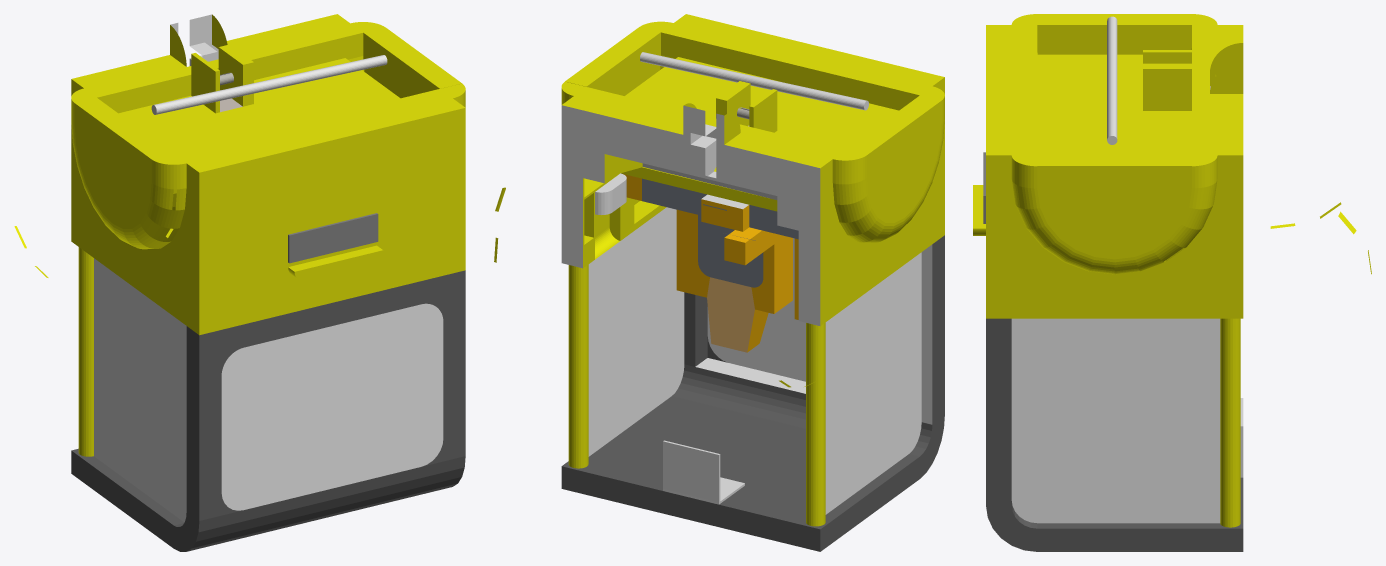
The model's file is island23.glb.
3 views of the same model, side by side, from view 1: azimuth 30°, elevation 25°; view 2: azimuth 150°, elevation 25°; view 3: azimuth 270°, elevation 25° (orthographic). The views are drawn at different scales.
Visible parts, largest first — view 1: imagetostl_mesh880, imagetostl_mesh879, imagetostl_mesh480, imagetostl_mesh265, imagetostl_mesh695, imagetostl_mesh3, imagetostl_mesh883, imagetostl_mesh267, imagetostl_mesh317, imagetostl_mesh283, imagetostl_mesh280, imagetostl_mesh881 (+23 smaller); view 2: imagetostl_mesh480, imagetostl_mesh334, imagetostl_mesh1003, imagetostl_mesh1000, imagetostl_mesh265, imagetostl_mesh695, imagetostl_mesh271, imagetostl_mesh3, imagetostl_mesh267, imagetostl_mesh881, imagetostl_mesh962, imagetostl_mesh879 (+48 smaller); view 3: imagetostl_mesh334, imagetostl_mesh691, imagetostl_mesh60, imagetostl_mesh881, imagetostl_mesh695, imagetostl_mesh284, imagetostl_mesh281, imagetostl_mesh883, imagetostl_mesh16, imagetostl_mesh693, imagetostl_mesh960, imagetostl_mesh655 (+15 smaller).
Boxes of the visible parts, <box> form: imagetostl_mesh880: <box>199,108,465,335</box>; imagetostl_mesh879: <box>221,303,443,510</box>; imagetostl_mesh480: <box>94,258,186,522</box>; imagetostl_mesh265: <box>71,79,199,334</box>; imagetostl_mesh695: <box>174,89,465,172</box>; imagetostl_mesh3: <box>74,103,151,228</box>; imagetostl_mesh883: <box>118,58,382,141</box>; imagetostl_mesh267: <box>71,326,199,551</box>; imagetostl_mesh317: <box>221,276,443,372</box>; imagetostl_mesh283: <box>443,270,465,461</box>; imagetostl_mesh280: <box>199,330,221,520</box>; imagetostl_mesh881: <box>157,86,400,153</box>; imagetostl_mesh480: <box>825,252,921,514</box>; imagetostl_mesh334: <box>588,207,684,456</box>; imagetostl_mesh1003: <box>561,105,820,325</box>; imagetostl_mesh1000: <box>562,396,919,529</box>; imagetostl_mesh265: <box>820,77,944,325</box>; imagetostl_mesh695: <box>661,14,944,95</box>; imagetostl_mesh271: <box>561,466,820,551</box>; imagetostl_mesh3: <box>867,101,941,222</box>; imagetostl_mesh267: <box>820,235,944,551</box>; imagetostl_mesh881: <box>641,57,898,137</box>; imagetostl_mesh962: <box>678,36,902,110</box>; imagetostl_mesh879: <box>707,238,805,381</box>; imagetostl_mesh334: <box>1011,318,1220,523</box>; imagetostl_mesh691: <box>986,155,1243,318</box>; imagetostl_mesh60: <box>1037,166,1191,259</box>; imagetostl_mesh881: <box>1037,54,1114,155</box>; imagetostl_mesh695: <box>986,25,1037,155</box>; imagetostl_mesh284: <box>986,505,1243,551</box>; imagetostl_mesh281: <box>986,318,1011,505</box>; imagetostl_mesh883: <box>1115,54,1191,155</box>; imagetostl_mesh16: <box>1037,25,1191,54</box>; imagetostl_mesh693: <box>1192,73,1243,155</box>; imagetostl_mesh960: <box>1143,69,1191,110</box>; imagetostl_mesh655: <box>1192,25,1243,73</box>.
Size of the model in its own units: 55.12 by 72.05 by 61.01.
